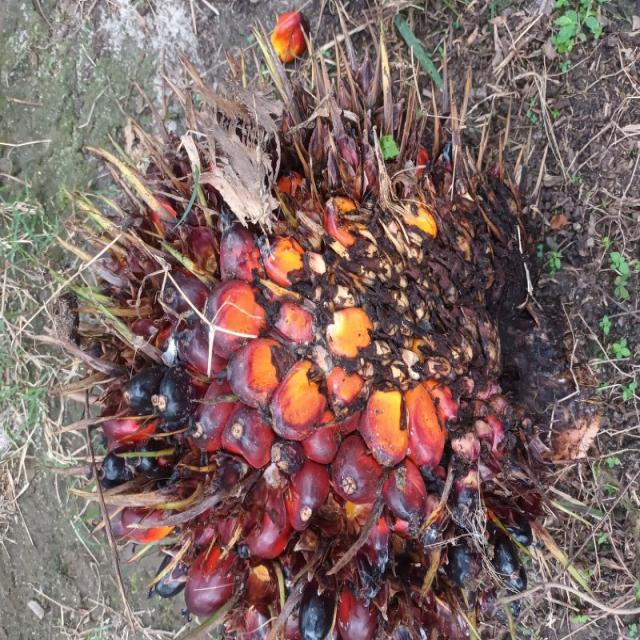fraksi 1: (74, 64, 590, 626)
